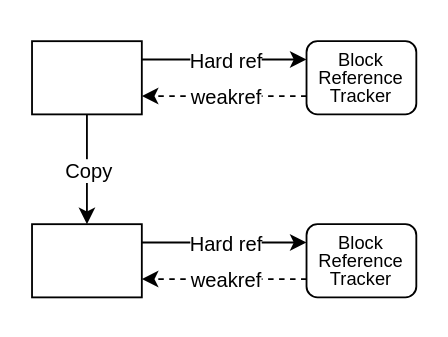
The diagram is 448 pixels wide and 337 high, and some of its shapes have lost their labels. Each missing label, with the centre of its shape:
df1: (86,76)
df2: (86,259)
